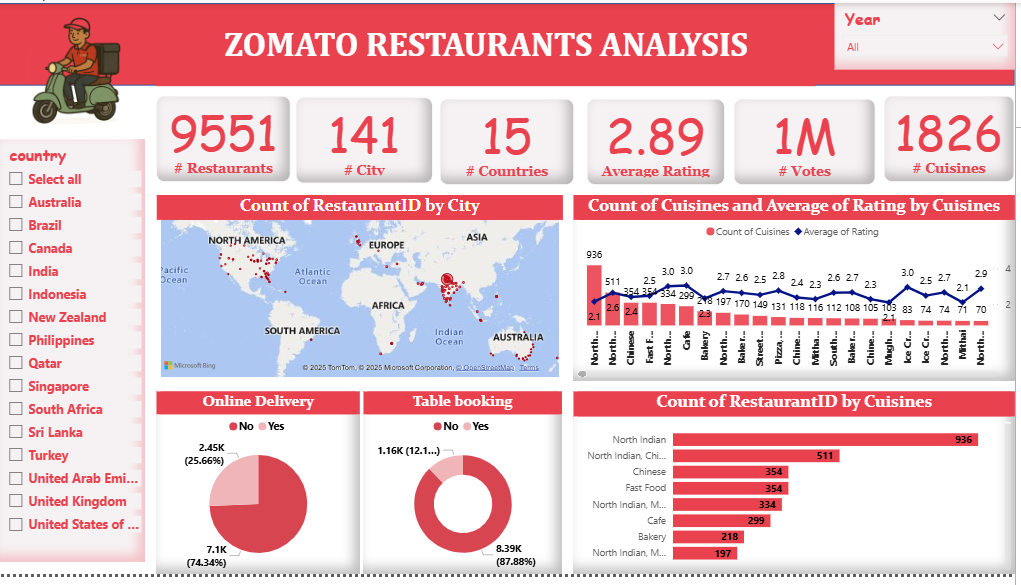

What the dashboard file says about the page in this screenshot:
{"tool":"powerbi","page":{"name":"Page 1","canvas":[1280,720],"ordinal":0},"visuals":[{"type":"shape","box":[0,0,1279.4,103.9],"z":0},{"type":"textbox","box":[198,20,830,84],"z":2000},{"type":"card","fields":{"Values":["Count(restaurants.RestaurantID)"]},"box":[198.4,117.2,168.8,107.8],"z":3000},{"type":"card","fields":{"Values":["Count(restaurants.City)"]},"box":[373.4,118.8,171.9,107.8],"z":4000},{"type":"card","fields":{"Values":["Count(countries.countryID)"]},"box":[556.2,120.3,168.8,107.8],"z":5000},{"type":"card","fields":{"Values":["Avg(restaurants.Rating)"]},"box":[740.6,120.3,173.4,107.8],"z":6000},{"type":"card","fields":{"Values":["Sum(restaurants.Votes)"]},"box":[926.6,120.3,178.1,107.8],"z":7000},{"type":"card","fields":{"Values":["Count(restaurants.Cuisines)"]},"box":[1115.6,117.2,164.1,107.8],"z":7001},{"type":"slicer","fields":{"Values":["countries.country name"]},"box":[0,172,184,532],"z":7002},{"type":"lineStackedColumnComboChart","fields":{"Category":["restaurants.Cuisines"],"Y2":["Avg(restaurants.Rating)"],"Y":["CountNonNull(restaurants.Cuisines)"]},"box":[724,242,556,234],"z":7003},{"type":"map","fields":{"Category":["restaurants.City"],"Size":["CountNonNull(restaurants.RestaurantID)"]},"box":[198,242,512,234],"z":7004},{"type":"clusteredBarChart","fields":{"Category":["restaurants.Cuisines"],"Y":["CountNonNull(restaurants.RestaurantID)"]},"box":[724,490,556,230],"z":7005},{"type":"pieChart","title":" Online Delivery","fields":{"Category":["restaurants.Has_Online_delivery"],"Y":["CountNonNull(restaurants.RestaurantID)"]},"box":[198,490,256,230],"z":7006},{"type":"donutChart","title":"Table booking","fields":{"Y":["CountNonNull(restaurants.RestaurantID)"],"Category":["restaurants.Has_Table_booking"]},"box":[460,490,250,230],"z":7007},{"type":"slicer","fields":{"Values":["restaurants.Datekey_Opening.Variation.Date Hierarchy.Year"]},"box":[1052,0,228,84],"z":7008},{"type":"image","box":[0,2,198,162],"z":7009}]}

Visuals, with their boxes in screenshot pixels (x1, y1, x2, y2), scaled from the page's 1280x720 canvas onto the 1021x585 screenshot:
shape: 0 0 1020 84
textbox: 158 16 820 84
card - Count(restaurants.RestaurantID): 158 95 293 183
card - Count(restaurants.City): 298 97 435 184
card - Count(countries.countryID): 444 98 578 185
card - Avg(restaurants.Rating): 591 98 729 185
card - Sum(restaurants.Votes): 739 98 881 185
card - Count(restaurants.Cuisines): 890 95 1020 183
slicer - countries.country name: 0 140 147 572
lineStackedColumnComboChart - restaurants.Cuisines x Avg(restaurants.Rating): 578 197 1020 387
map - restaurants.City x CountNonNull(restaurants.RestaurantID): 158 197 566 387
clusteredBarChart - restaurants.Cuisines x CountNonNull(restaurants.RestaurantID): 578 398 1020 584
" Online Delivery" pieChart: 158 398 362 584
"Table booking" donutChart: 367 398 566 584
slicer - restaurants.Datekey_Opening.Variation.Date Hierarchy.Year: 839 0 1020 68
image: 0 2 158 133
